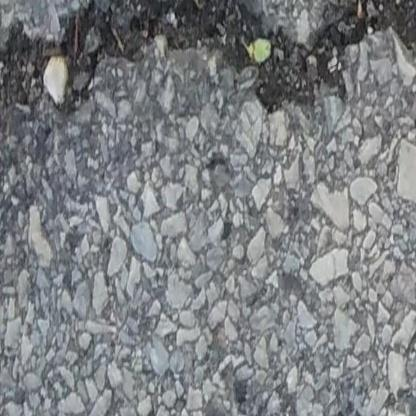Cracks: (0, 0, 416, 113)
